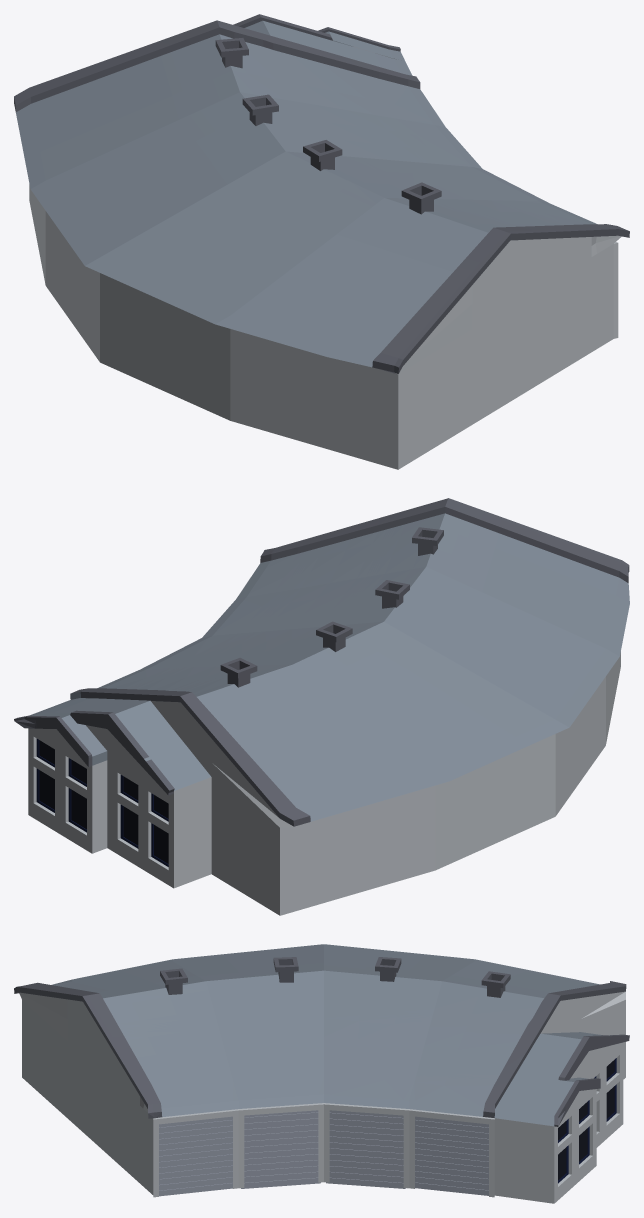
Rendered from elverum_lokstall_v6.gltf.
3 renders of one model, top to bottom at view 1: azimuth 30°, elevation 25°; view 2: azimuth 150°, elevation 25°; view 3: azimuth 270°, elevation 25°, orthographic. The views are drawn at different scales.
Visible parts, largest first — view 1: Cube; view 2: Cube; view 3: Cube.
Part boxes in pixels (x1=…): Cube: x1=14, y1=14, x2=629, y2=469; Cube: x1=14, y1=498, x2=629, y2=915; Cube: x1=14, y1=944, x2=629, y2=1203.
Bounding box in the file's own units: 60.44 × 23.41 × 86.02.
